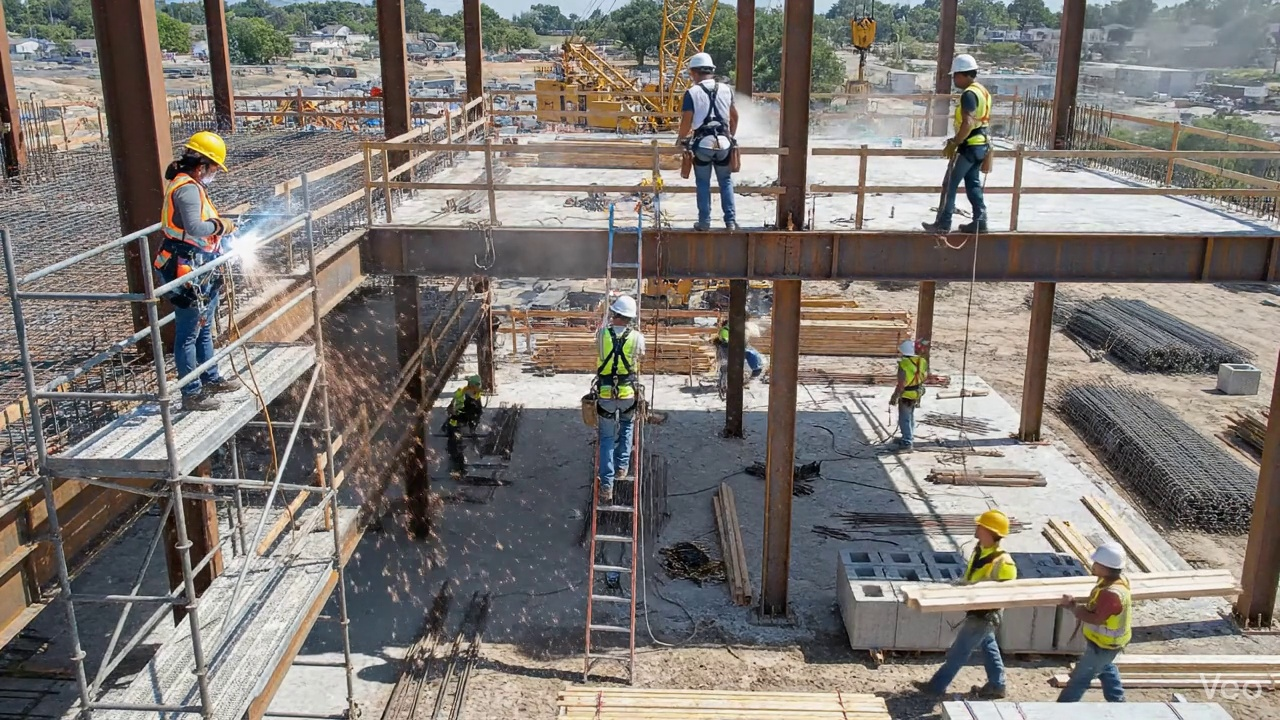PG: (920, 610, 1005, 698), (889, 340, 927, 448), (961, 510, 1017, 583), (445, 375, 482, 475), (713, 320, 729, 400), (744, 322, 764, 379)
PH: (153, 131, 235, 284), (922, 54, 991, 232), (677, 52, 739, 230), (593, 295, 644, 504), (166, 273, 221, 377), (181, 366, 239, 410)
